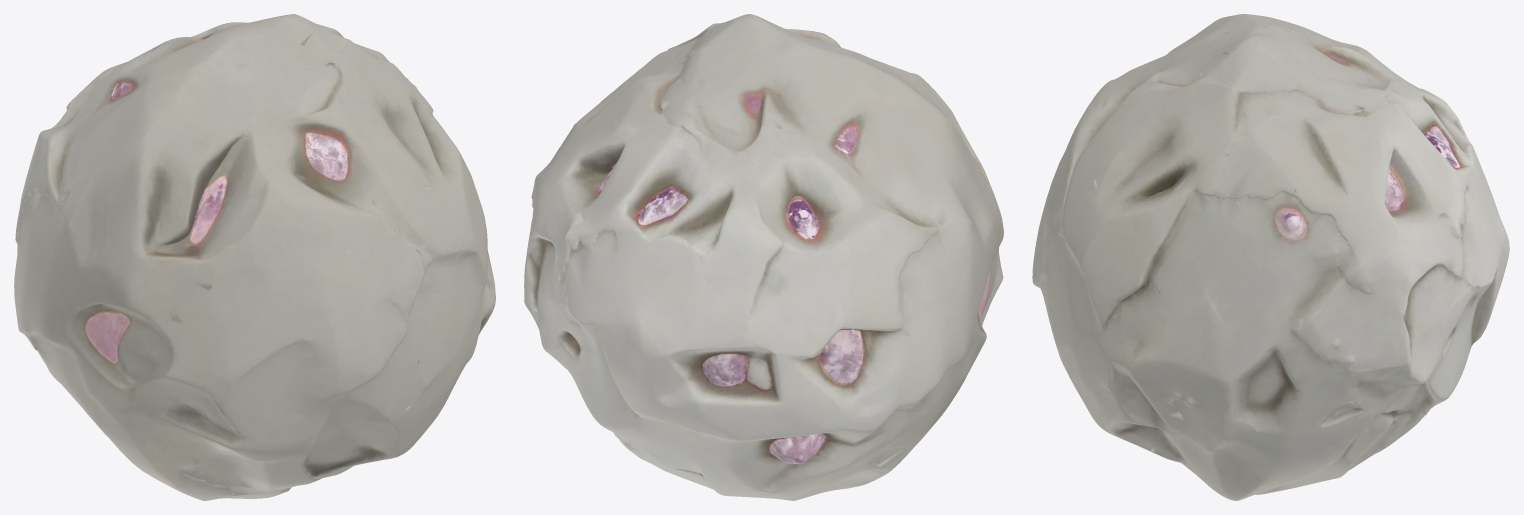
The model's file is model.opt.glb.
The picture shows the model from 3 angles, left to right: view 1: azimuth 30°, elevation 25°; view 2: azimuth 150°, elevation 25°; view 3: azimuth 270°, elevation 25°; orthographic projection. The views are drawn at different scales.
Size of the model in its own units: 1.74 by 1.9 by 1.8.
Materials: 1 (1 with a texture image).
